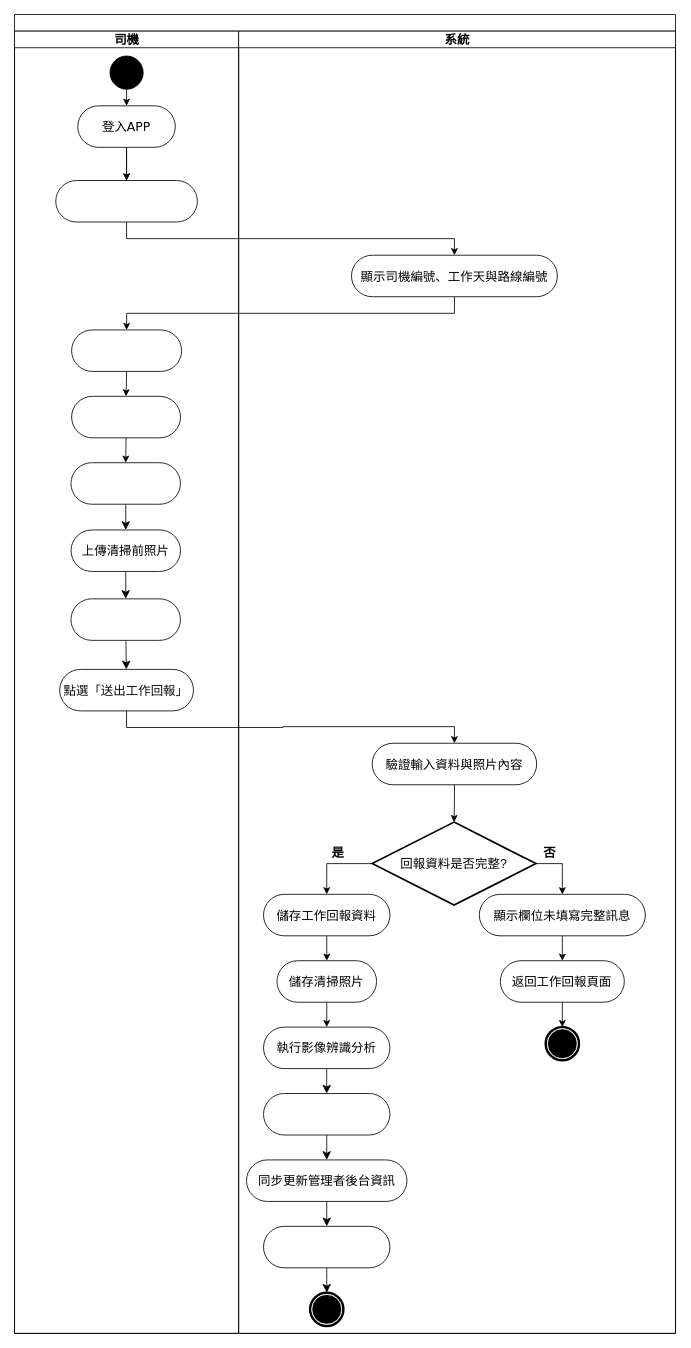
Some shapes in this 691 by 1348 pixel diagram are drawn without their labels. Here are the shapes that lost their labels. From the top down, the box of each, then its label:
(55, 180, 197, 222): 進入「工作回報」頁面
(71, 329, 182, 371): 選擇回報類型
(71, 395, 181, 438): 輸入站點資訊
(70, 462, 180, 504): 填寫回報內容
(70, 598, 180, 640): 上傳清掃後照片
(263, 1093, 390, 1135): 更新清掃紀錄與 最近回報紀錄
(263, 1225, 390, 1268): 顯示送出成功訊息
